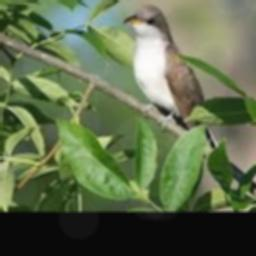Cuckoo: (122, 5, 223, 158)
